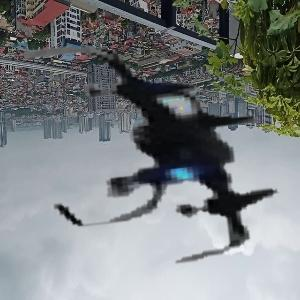drone: (36, 21, 285, 270)
